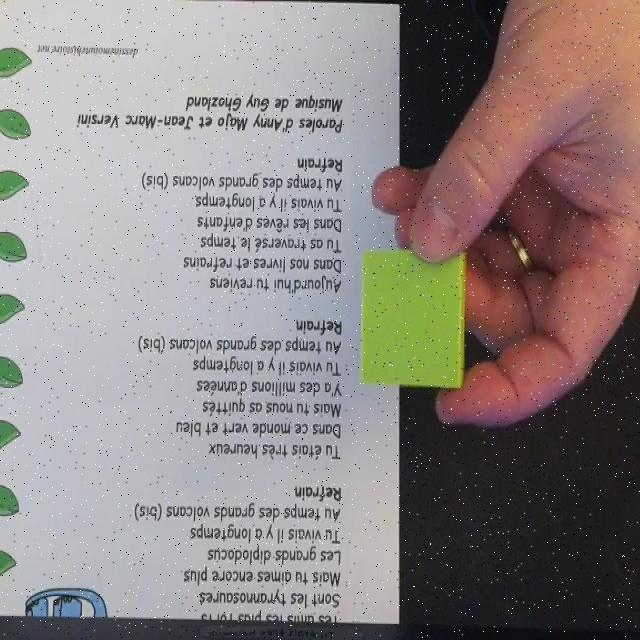square: (358, 248, 466, 388)
